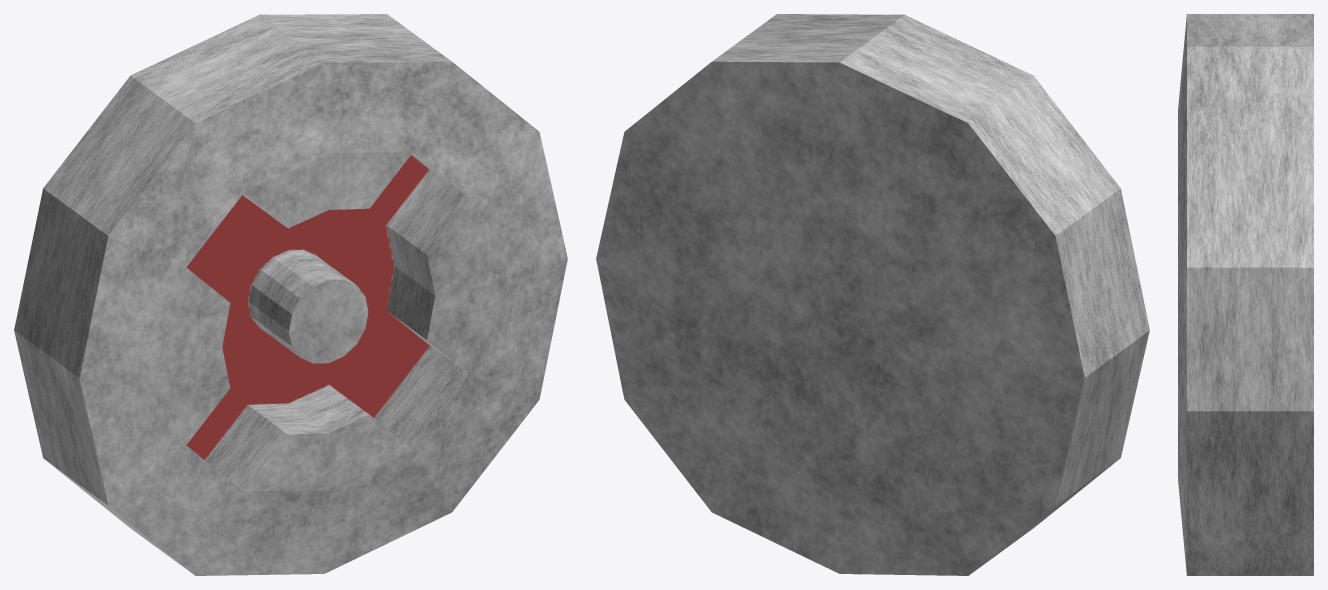
The model's file is SpecialDoorLock.fbx.
3 renders of one model, left to right at view 1: azimuth 30°, elevation 25°; view 2: azimuth 150°, elevation 25°; view 3: azimuth 270°, elevation 25°, orthographic. The views are drawn at different scales.
Parts seen in each view (by area): view 1: SpecialDoorLock; view 2: SpecialDoorLock; view 3: SpecialDoorLock.
Boxes of the visible parts, x1=… form: SpecialDoorLock: x1=14, y1=14, x2=567, y2=575; SpecialDoorLock: x1=596, y1=14, x2=1149, y2=575; SpecialDoorLock: x1=1178, y1=14, x2=1313, y2=575.
Size of the model in its own units: 140 by 140 by 34.6.
Materials: 1 (1 with a texture image).
